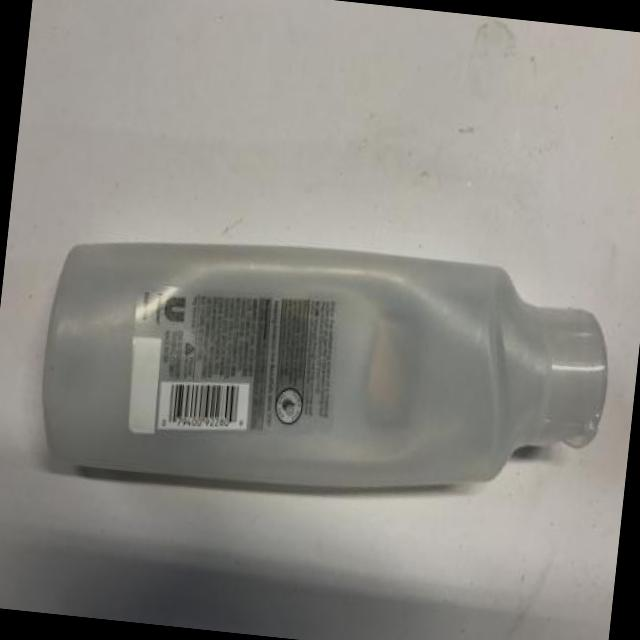Trash: (33, 230, 612, 530)
